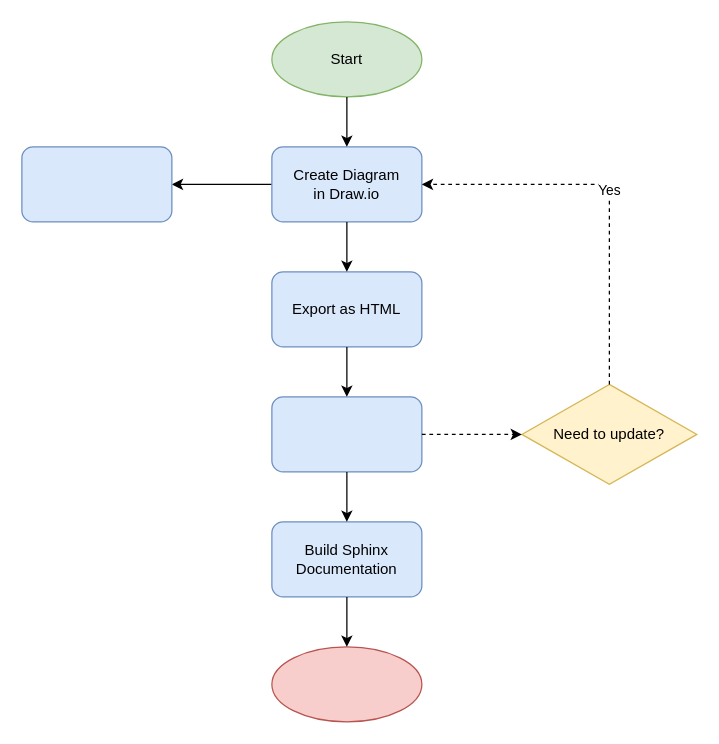
Some shapes in this 719 by 744 pixel diagram are drawn without their labels. Here are the shapes that lost their labels. From the top down, the centre of each, then its label:
At (x=96, y=184): "Link to the mermaid how-to".
At (x=346, y=434): "Embed in RST Document".
At (x=346, y=684): "End".
